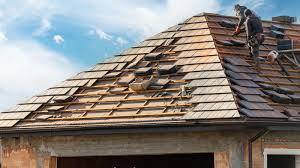sagging_roof: (48, 33, 202, 123)
